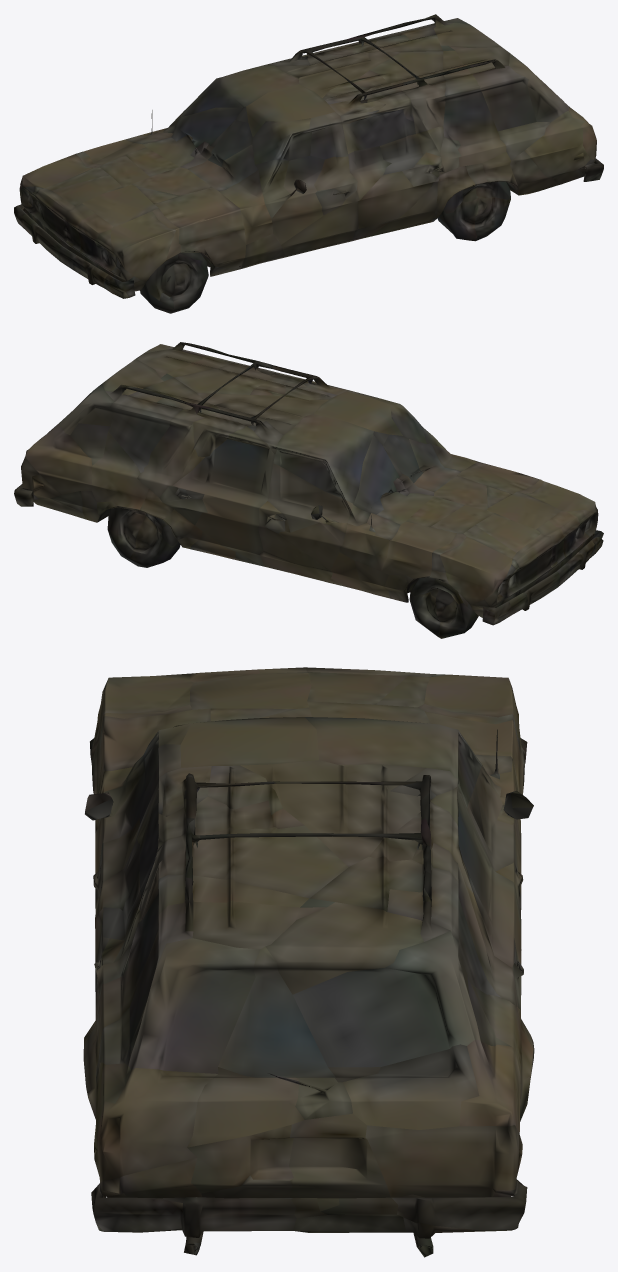
Rendered from car_wagon_light_q2.glb.
3 views of the same model, one above another, from view 1: azimuth 30°, elevation 25°; view 2: azimuth 150°, elevation 25°; view 3: azimuth 270°, elevation 25° (orthographic). The views are drawn at different scales.
Bounding box in the file's own units: 4.78 × 1.49 × 1.88.
Materials: 1 (1 with a texture image).
